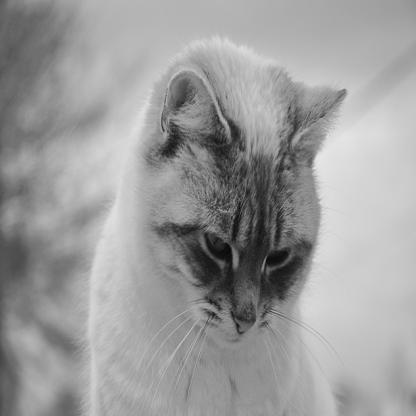cat: (90, 38, 350, 415)
